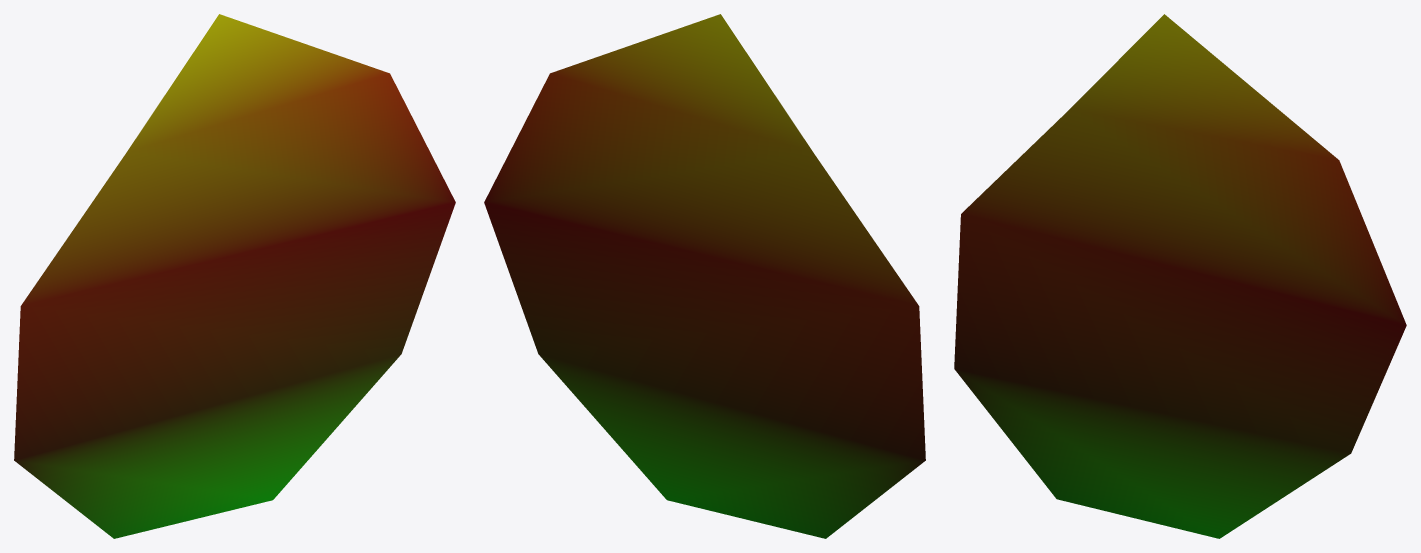
File: tmjhcayia_Var1_LOD4.fbx
The picture shows the model from 3 angles, left to right: view 1: azimuth 30°, elevation 25°; view 2: azimuth 150°, elevation 25°; view 3: azimuth 330°, elevation 25°; orthographic projection. The views are drawn at different scales.
Parts seen in each view (by area): view 1: Var1q_LOD4; view 2: Var1q_LOD4; view 3: Var1q_LOD4.
Part boxes in pixels (x1,y1,x2,y2): Var1q_LOD4: (14, 14, 455, 538); Var1q_LOD4: (484, 14, 925, 538); Var1q_LOD4: (954, 14, 1406, 538).
Bounding box in the file's own units: 36.81 × 39.76 × 6.48e-06.
